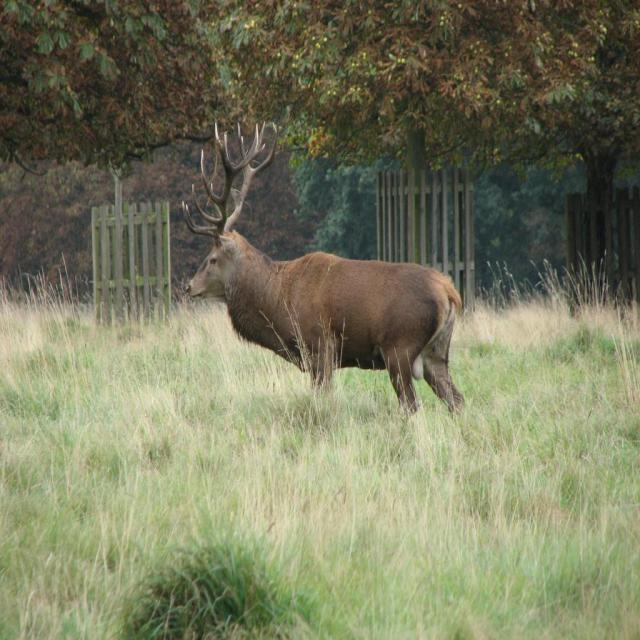Deer: (179, 121, 466, 428)
